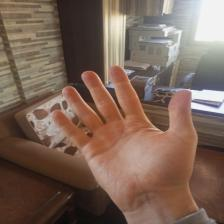five: (51, 65, 201, 192)
